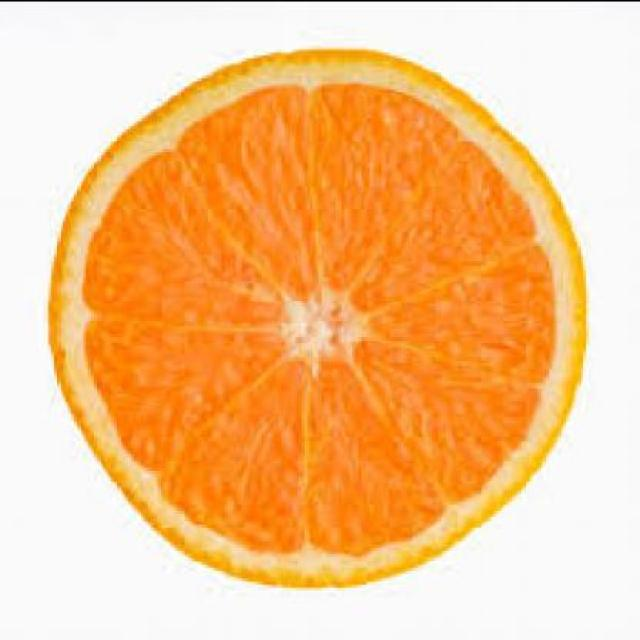BIODEGRADABLE: (54, 54, 586, 592)
